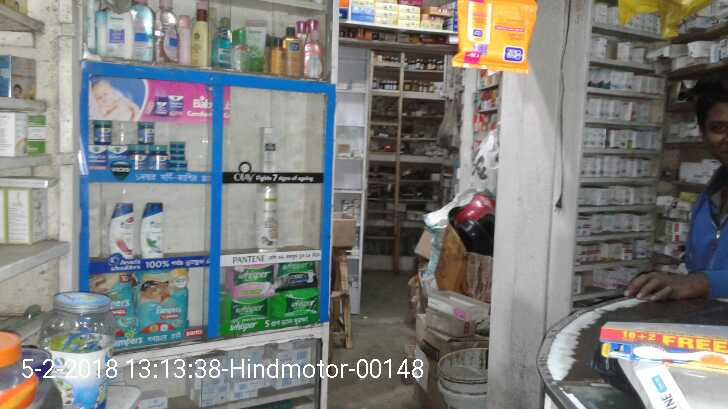vicks: (84, 116, 185, 173)
